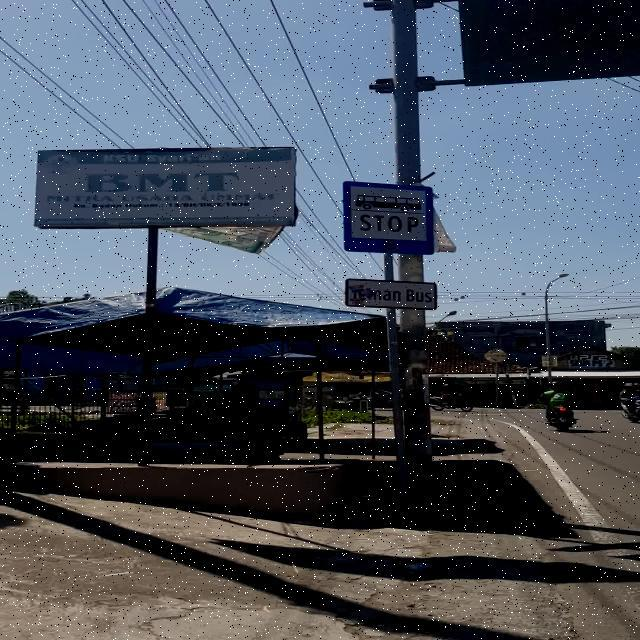Pemberhentian Bus: (342, 180, 434, 256)
